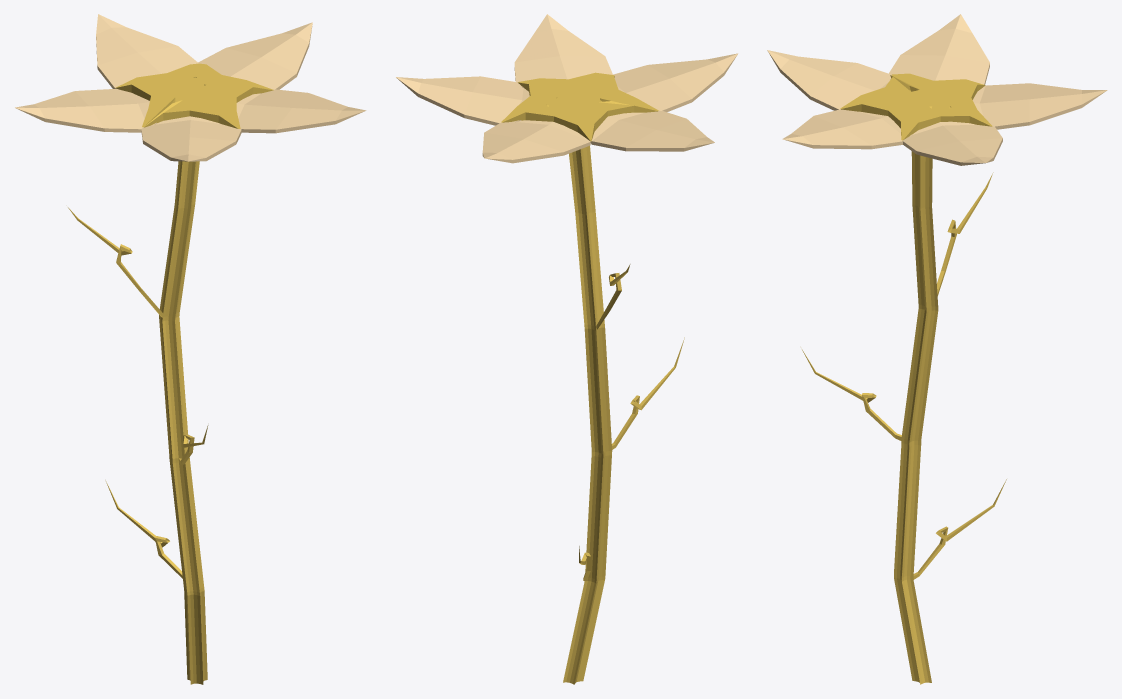
File: StarFlower.fbx
3 renders of one model, left to right at view 1: azimuth 30°, elevation 25°; view 2: azimuth 150°, elevation 25°; view 3: azimuth 270°, elevation 25°, orthographic.
Parts seen in each view (by area): view 1: Plane.005, Cylinder; view 2: Plane.005, Cylinder; view 3: Plane.005, Cylinder.
Boxes of the visible parts, x1=… form: Plane.005: x1=15, y1=14, x2=366, y2=161; Cylinder: x1=68, y1=63, x2=273, y2=684; Plane.005: x1=396, y1=14, x2=738, y2=163; Cylinder: x1=501, y1=72, x2=684, y2=684; Plane.005: x1=767, y1=14, x2=1107, y2=165; Cylinder: x1=802, y1=73, x2=1006, y2=684.
Size of the model in its own units: 431 by 793 by 416.
